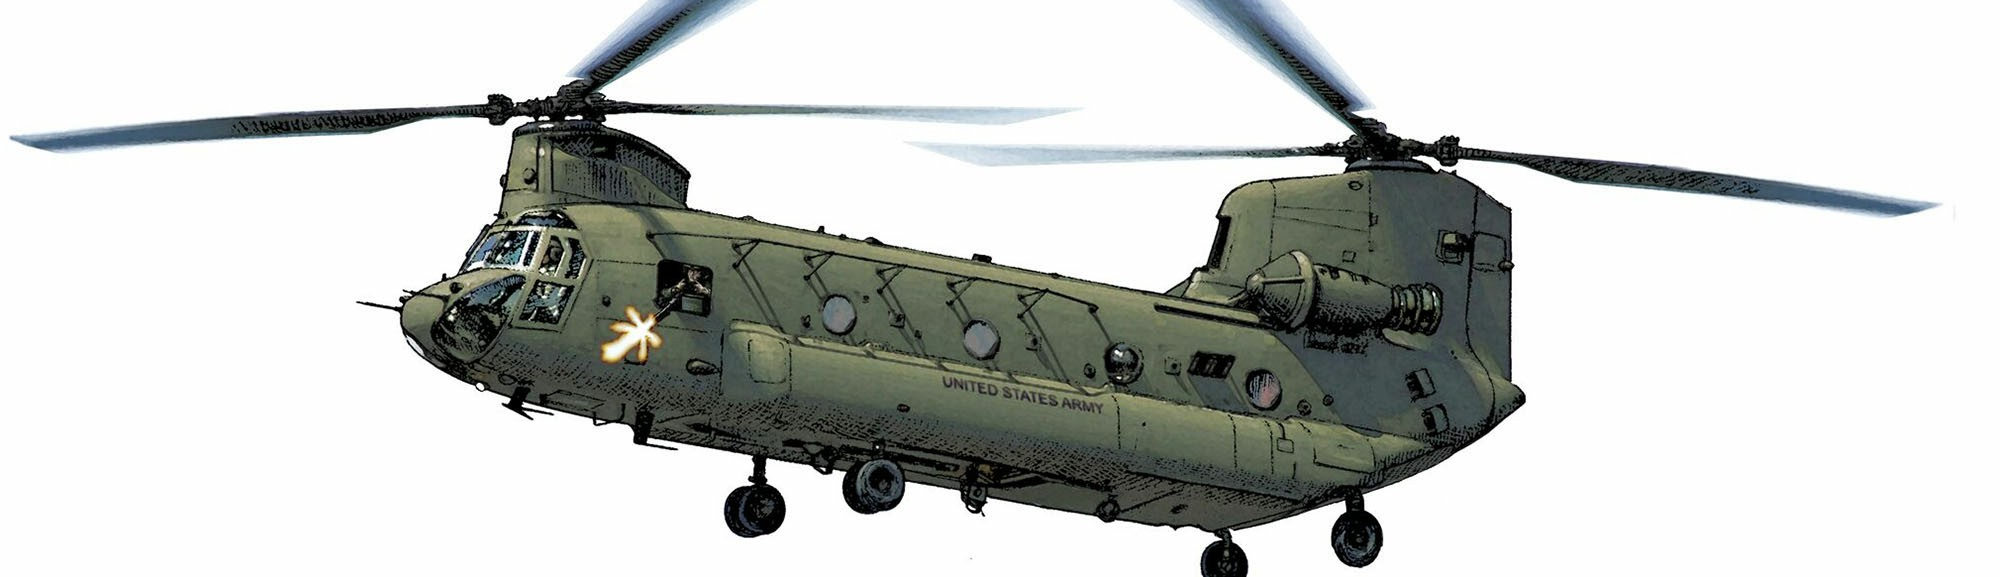chinook: (279, 6, 1864, 566)
